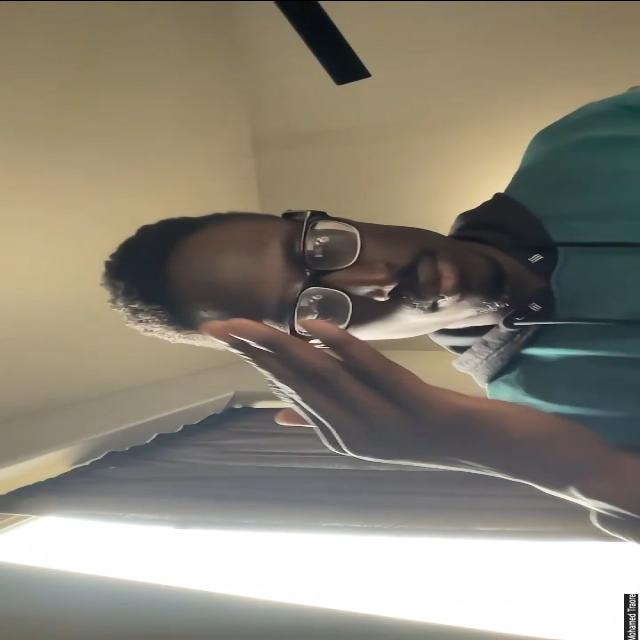Paper: (200, 315, 594, 489)
